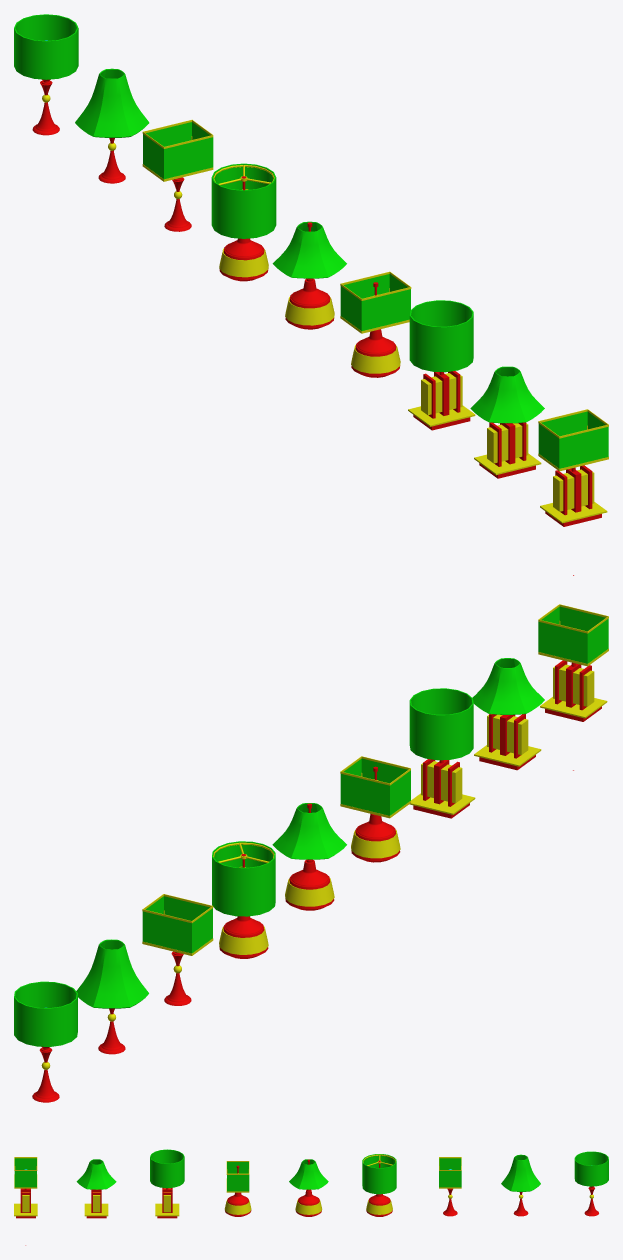
Rendered from desk_lamps_grp.fbx.
The picture shows the model from 3 angles, top to bottom: view 1: azimuth 30°, elevation 25°; view 2: azimuth 150°, elevation 25°; view 3: azimuth 270°, elevation 25°; orthographic projection. The views are drawn at different scales.
Parts seen in each view (by area): view 1: desk_lamp_3, desk_lamp_6, desk_lamp_1, desk_lamp_4, desk_lamp_2, desk_lamp_9, desk_lamp_5, desk_lamp_7, desk_lamp_8; view 2: desk_lamp_3, desk_lamp_6, desk_lamp_1, desk_lamp_4, desk_lamp_2, desk_lamp_9, desk_lamp_5, desk_lamp_7, desk_lamp_8; view 3: desk_lamp_6, desk_lamp_3, desk_lamp_9, desk_lamp_2, desk_lamp_5, desk_lamp_1, desk_lamp_4, desk_lamp_8, desk_lamp_7.
Part boxes in pixels (left/top/right/bottom): desk_lamp_3: left=408, top=300, right=475, bottom=430; desk_lamp_6: left=211, top=163, right=276, bottom=281; desk_lamp_1: left=538, top=409, right=608, bottom=575; desk_lamp_4: left=340, top=271, right=411, bottom=377; desk_lamp_2: left=470, top=366, right=544, bottom=478; desk_lamp_9: left=14, top=14, right=78, bottom=135; desk_lamp_5: left=272, top=221, right=346, bottom=329; desk_lamp_7: left=142, top=119, right=213, bottom=231; desk_lamp_8: left=75, top=68, right=149, bottom=183; desk_lamp_3: left=409, top=688, right=475, bottom=818; desk_lamp_6: left=212, top=841, right=275, bottom=958; desk_lamp_1: left=538, top=604, right=608, bottom=770; desk_lamp_4: left=340, top=756, right=410, bottom=862; desk_lamp_2: left=472, top=658, right=544, bottom=770; desk_lamp_9: left=14, top=981, right=77, bottom=1102; desk_lamp_5: left=272, top=803, right=346, bottom=910; desk_lamp_7: left=142, top=894, right=213, bottom=1005; desk_lamp_8: left=76, top=939, right=148, bottom=1054; desk_lamp_6: left=362, top=1154, right=396, bottom=1216; desk_lamp_3: left=150, top=1149, right=184, bottom=1218; desk_lamp_9: left=574, top=1151, right=608, bottom=1216; desk_lamp_2: left=76, top=1159, right=116, bottom=1218; desk_lamp_5: left=289, top=1159, right=328, bottom=1216; desk_lamp_1: left=14, top=1157, right=37, bottom=1245; desk_lamp_4: left=224, top=1161, right=251, bottom=1216; desk_lamp_8: left=501, top=1154, right=540, bottom=1216; desk_lamp_7: left=439, top=1157, right=461, bottom=1216.
Size of the model in its own units: 51.35 by 138 by 841.
